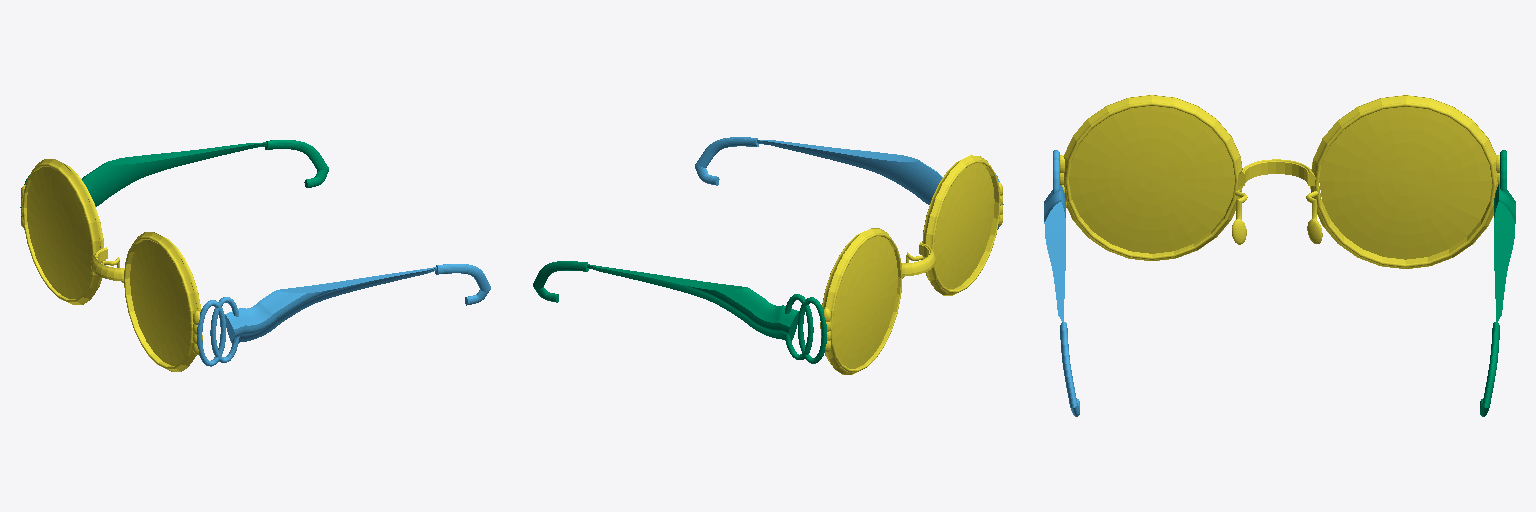
The robot description file, URDF, robot "partnet_4aee07d2bed7f4121311158f08f2982a":
<?xml version="1.0" ?>
<robot name="partnet_4aee07d2bed7f4121311158f08f2982a">
	<link name="base"/>
	<link name="link_0">
		<visual name="leg-1">
			<origin xyz="-0.5376261066012091 0 -0.1408030665218828"/>
			<geometry>
				<mesh filename="textured_objs/original-4.obj"/>
			</geometry>
		</visual>
		<visual name="leg-1">
			<origin xyz="-0.5376261066012091 0 -0.1408030665218828"/>
			<geometry>
				<mesh filename="textured_objs/original-5.obj"/>
			</geometry>
		</visual>
		<visual name="leg-1">
			<origin xyz="-0.5376261066012091 0 -0.1408030665218828"/>
			<geometry>
				<mesh filename="textured_objs/original-10.obj"/>
			</geometry>
		</visual>
		<visual name="leg-1">
			<origin xyz="-0.5376261066012091 0 -0.1408030665218828"/>
			<geometry>
				<mesh filename="textured_objs/original-11.obj"/>
			</geometry>
		</visual>
		<collision>
			<origin xyz="-0.5376261066012091 0 -0.1408030665218828"/>
			<geometry>
				<mesh filename="textured_objs/original-4.obj"/>
			</geometry>
		</collision>
		<collision>
			<origin xyz="-0.5376261066012091 0 -0.1408030665218828"/>
			<geometry>
				<mesh filename="textured_objs/original-5.obj"/>
			</geometry>
		</collision>
		<collision>
			<origin xyz="-0.5376261066012091 0 -0.1408030665218828"/>
			<geometry>
				<mesh filename="textured_objs/original-10.obj"/>
			</geometry>
		</collision>
		<collision>
			<origin xyz="-0.5376261066012091 0 -0.1408030665218828"/>
			<geometry>
				<mesh filename="textured_objs/original-11.obj"/>
			</geometry>
		</collision>
	</link>
	<joint name="joint_0" type="revolute">
		<origin xyz="0.5376261066012091 0 0.1408030665218828"/>
		<axis xyz="0 1 0"/>
		<child link="link_0"/>
		<parent link="link_2"/>
		<limit lower="0.0" upper="1.2189379495928399"/>
	</joint>
	<link name="link_1">
		<visual name="leg-2">
			<origin xyz="0.5061001964248819 0 -0.1298728521615271"/>
			<geometry>
				<mesh filename="textured_objs/original-21.obj"/>
			</geometry>
		</visual>
		<visual name="leg-2">
			<origin xyz="0.5061001964248819 0 -0.1298728521615271"/>
			<geometry>
				<mesh filename="textured_objs/original-15.obj"/>
			</geometry>
		</visual>
		<visual name="leg-2">
			<origin xyz="0.5061001964248819 0 -0.1298728521615271"/>
			<geometry>
				<mesh filename="textured_objs/original-16.obj"/>
			</geometry>
		</visual>
		<visual name="leg-2">
			<origin xyz="0.5061001964248819 0 -0.1298728521615271"/>
			<geometry>
				<mesh filename="textured_objs/original-22.obj"/>
			</geometry>
		</visual>
		<collision>
			<origin xyz="0.5061001964248819 0 -0.1298728521615271"/>
			<geometry>
				<mesh filename="textured_objs/original-21.obj"/>
			</geometry>
		</collision>
		<collision>
			<origin xyz="0.5061001964248819 0 -0.1298728521615271"/>
			<geometry>
				<mesh filename="textured_objs/original-15.obj"/>
			</geometry>
		</collision>
		<collision>
			<origin xyz="0.5061001964248819 0 -0.1298728521615271"/>
			<geometry>
				<mesh filename="textured_objs/original-16.obj"/>
			</geometry>
		</collision>
		<collision>
			<origin xyz="0.5061001964248819 0 -0.1298728521615271"/>
			<geometry>
				<mesh filename="textured_objs/original-22.obj"/>
			</geometry>
		</collision>
	</link>
	<joint name="joint_1" type="revolute">
		<origin xyz="-0.5061001964248819 0 0.1298728521615271"/>
		<axis xyz="0 -1 0"/>
		<child link="link_1"/>
		<parent link="link_2"/>
		<limit lower="-0.0" upper="1.017876019763093"/>
	</joint>
	<link name="link_2">
		<visual name="base_body-3">
			<origin xyz="0 0 0"/>
			<geometry>
				<mesh filename="textured_objs/original-36.obj"/>
			</geometry>
		</visual>
		<visual name="base_body-3">
			<origin xyz="0 0 0"/>
			<geometry>
				<mesh filename="textured_objs/original-41.obj"/>
			</geometry>
		</visual>
		<visual name="base_body-3">
			<origin xyz="0 0 0"/>
			<geometry>
				<mesh filename="textured_objs/original-43.obj"/>
			</geometry>
		</visual>
		<visual name="base_body-3">
			<origin xyz="0 0 0"/>
			<geometry>
				<mesh filename="textured_objs/original-33.obj"/>
			</geometry>
		</visual>
		<visual name="base_body-3">
			<origin xyz="0 0 0"/>
			<geometry>
				<mesh filename="textured_objs/original-44.obj"/>
			</geometry>
		</visual>
		<visual name="base_body-3">
			<origin xyz="0 0 0"/>
			<geometry>
				<mesh filename="textured_objs/original-8.obj"/>
			</geometry>
		</visual>
		<visual name="base_body-3">
			<origin xyz="0 0 0"/>
			<geometry>
				<mesh filename="textured_objs/original-35.obj"/>
			</geometry>
		</visual>
		<visual name="base_body-3">
			<origin xyz="0 0 0"/>
			<geometry>
				<mesh filename="textured_objs/original-27.obj"/>
			</geometry>
		</visual>
		<visual name="base_body-3">
			<origin xyz="0 0 0"/>
			<geometry>
				<mesh filename="textured_objs/original-38.obj"/>
			</geometry>
		</visual>
		<visual name="base_body-3">
			<origin xyz="0 0 0"/>
			<geometry>
				<mesh filename="textured_objs/original-34.obj"/>
			</geometry>
		</visual>
		<visual name="base_body-3">
			<origin xyz="0 0 0"/>
			<geometry>
				<mesh filename="textured_objs/original-18.obj"/>
			</geometry>
		</visual>
		<visual name="base_body-3">
			<origin xyz="0 0 0"/>
			<geometry>
				<mesh filename="textured_objs/original-25.obj"/>
			</geometry>
		</visual>
		<visual name="base_body-3">
			<origin xyz="0 0 0"/>
			<geometry>
				<mesh filename="textured_objs/original-42.obj"/>
			</geometry>
		</visual>
		<visual name="base_body-3">
			<origin xyz="0 0 0"/>
			<geometry>
				<mesh filename="textured_objs/original-24.obj"/>
			</geometry>
		</visual>
		<visual name="base_body-3">
			<origin xyz="0 0 0"/>
			<geometry>
				<mesh filename="textured_objs/original-32.obj"/>
			</geometry>
		</visual>
		<visual name="base_body-3">
			<origin xyz="0 0 0"/>
			<geometry>
				<mesh filename="textured_objs/original-7.obj"/>
			</geometry>
		</visual>
		<visual name="base_body-3">
			<origin xyz="0 0 0"/>
			<geometry>
				<mesh filename="textured_objs/original-19.obj"/>
			</geometry>
		</visual>
		<visual name="base_body-3">
			<origin xyz="0 0 0"/>
			<geometry>
				<mesh filename="textured_objs/original-40.obj"/>
			</geometry>
		</visual>
		<collision>
			<origin xyz="0 0 0"/>
			<geometry>
				<mesh filename="textured_objs/original-36.obj"/>
			</geometry>
		</collision>
		<collision>
			<origin xyz="0 0 0"/>
			<geometry>
				<mesh filename="textured_objs/original-41.obj"/>
			</geometry>
		</collision>
		<collision>
			<origin xyz="0 0 0"/>
			<geometry>
				<mesh filename="textured_objs/original-43.obj"/>
			</geometry>
		</collision>
		<collision>
			<origin xyz="0 0 0"/>
			<geometry>
				<mesh filename="textured_objs/original-33.obj"/>
			</geometry>
		</collision>
		<collision>
			<origin xyz="0 0 0"/>
			<geometry>
				<mesh filename="textured_objs/original-44.obj"/>
			</geometry>
		</collision>
		<collision>
			<origin xyz="0 0 0"/>
			<geometry>
				<mesh filename="textured_objs/original-8.obj"/>
			</geometry>
		</collision>
		<collision>
			<origin xyz="0 0 0"/>
			<geometry>
				<mesh filename="textured_objs/original-35.obj"/>
			</geometry>
		</collision>
		<collision>
			<origin xyz="0 0 0"/>
			<geometry>
				<mesh filename="textured_objs/original-27.obj"/>
			</geometry>
		</collision>
		<collision>
			<origin xyz="0 0 0"/>
			<geometry>
				<mesh filename="textured_objs/original-38.obj"/>
			</geometry>
		</collision>
		<collision>
			<origin xyz="0 0 0"/>
			<geometry>
				<mesh filename="textured_objs/original-34.obj"/>
			</geometry>
		</collision>
		<collision>
			<origin xyz="0 0 0"/>
			<geometry>
				<mesh filename="textured_objs/original-18.obj"/>
			</geometry>
		</collision>
		<collision>
			<origin xyz="0 0 0"/>
			<geometry>
				<mesh filename="textured_objs/original-25.obj"/>
			</geometry>
		</collision>
		<collision>
			<origin xyz="0 0 0"/>
			<geometry>
				<mesh filename="textured_objs/original-42.obj"/>
			</geometry>
		</collision>
		<collision>
			<origin xyz="0 0 0"/>
			<geometry>
				<mesh filename="textured_objs/original-24.obj"/>
			</geometry>
		</collision>
		<collision>
			<origin xyz="0 0 0"/>
			<geometry>
				<mesh filename="textured_objs/original-32.obj"/>
			</geometry>
		</collision>
		<collision>
			<origin xyz="0 0 0"/>
			<geometry>
				<mesh filename="textured_objs/original-7.obj"/>
			</geometry>
		</collision>
		<collision>
			<origin xyz="0 0 0"/>
			<geometry>
				<mesh filename="textured_objs/original-19.obj"/>
			</geometry>
		</collision>
		<collision>
			<origin xyz="0 0 0"/>
			<geometry>
				<mesh filename="textured_objs/original-40.obj"/>
			</geometry>
		</collision>
	</link>
	<joint name="joint_2" type="fixed">
		<origin rpy="1.570796326794897 0 -1.570796326794897" xyz="0 0 0"/>
		<child link="link_2"/>
		<parent link="base"/>
	</joint>
</robot>

--- Facts derived from the render (not from the file) ---
Views: 3 orthographic renders of the robot side by side, from view 1: azimuth 30°, elevation 25°; view 2: azimuth 150°, elevation 25°; view 3: azimuth 270°, elevation 25°.
Robot: partnet_4aee07d2bed7f4121311158f08f2982a — 4 links, 3 joints (2 revolute, 1 fixed); root link base; default pose: all joints at 0.
Links seen in each view (by area): view 1: link_2, link_0, link_1; view 2: link_2, link_1, link_0; view 3: link_2, link_0, link_1.
Boxes of the visible links, bbox=[...] form: link_2: bbox=[21, 159, 202, 371]; link_0: bbox=[197, 264, 490, 366]; link_1: bbox=[20, 140, 328, 229]; link_2: bbox=[820, 155, 1002, 374]; link_1: bbox=[533, 261, 826, 363]; link_0: bbox=[695, 137, 1003, 229]; link_2: bbox=[1060, 95, 1499, 268]; link_0: bbox=[1044, 150, 1079, 416]; link_1: bbox=[1480, 150, 1515, 416].
Bounding box of the posed robot: 1.09 × 1.1 × 0.4504 m (x, y, z).
Meshes: 26 distinct files referenced, 26 mesh visuals loaded (26 OBJ).